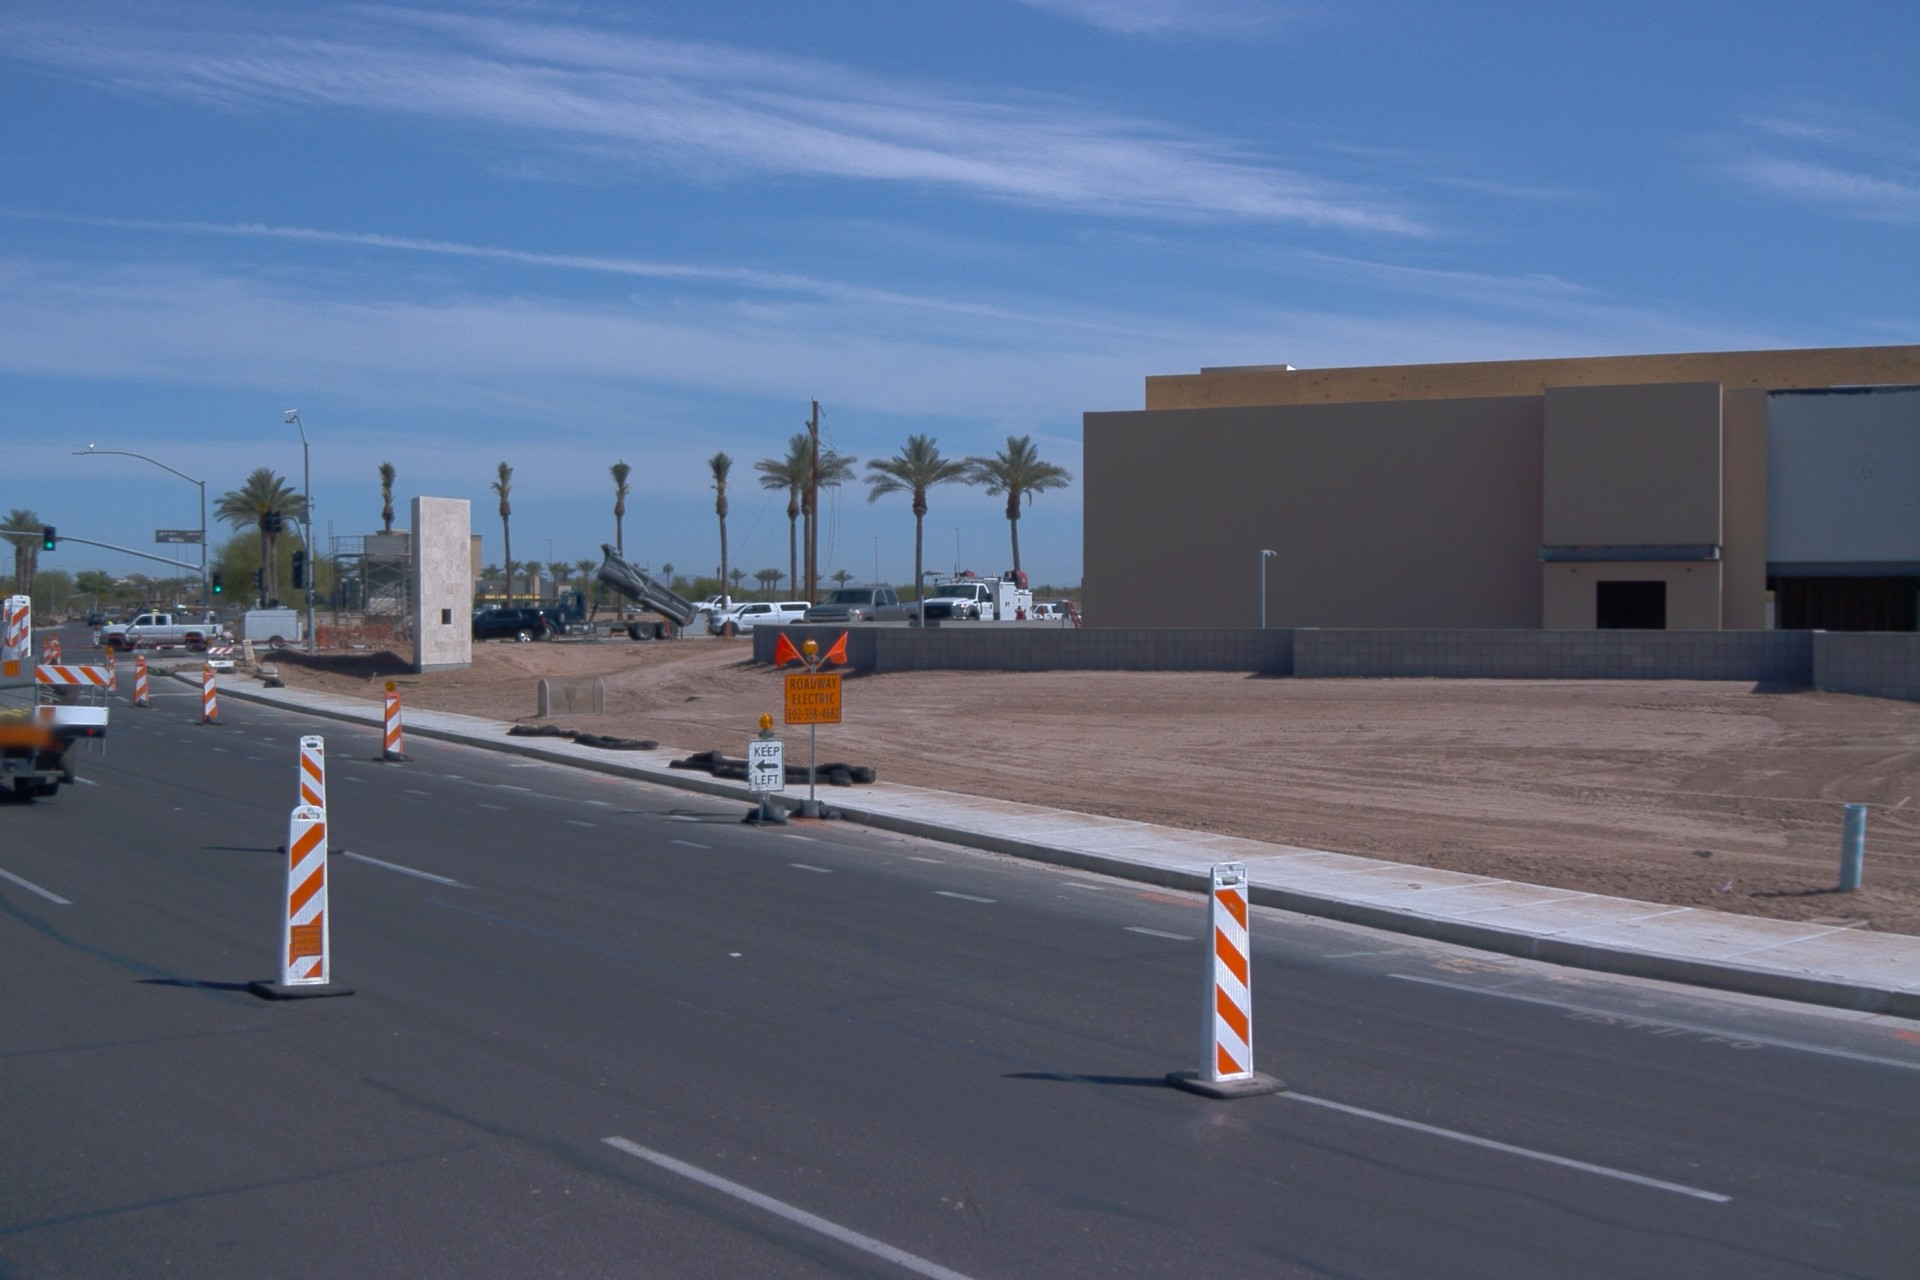TYPE_PEDESTRIAN: (107, 618, 120, 629)
TYPE_VEHICLE: (0, 593, 117, 802), (540, 542, 702, 644), (915, 560, 1036, 624), (798, 576, 928, 625), (100, 613, 224, 657), (707, 603, 812, 645), (470, 607, 547, 648), (244, 612, 303, 657), (692, 590, 750, 613), (1028, 602, 1084, 625), (120, 599, 167, 624), (86, 613, 110, 627), (175, 607, 189, 620), (483, 605, 503, 613), (470, 612, 483, 620)
